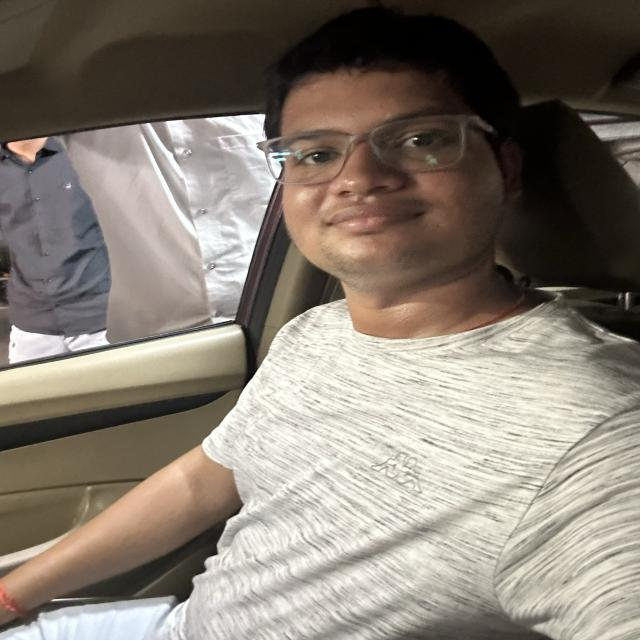no-seatbelt: (215, 288, 598, 634)
